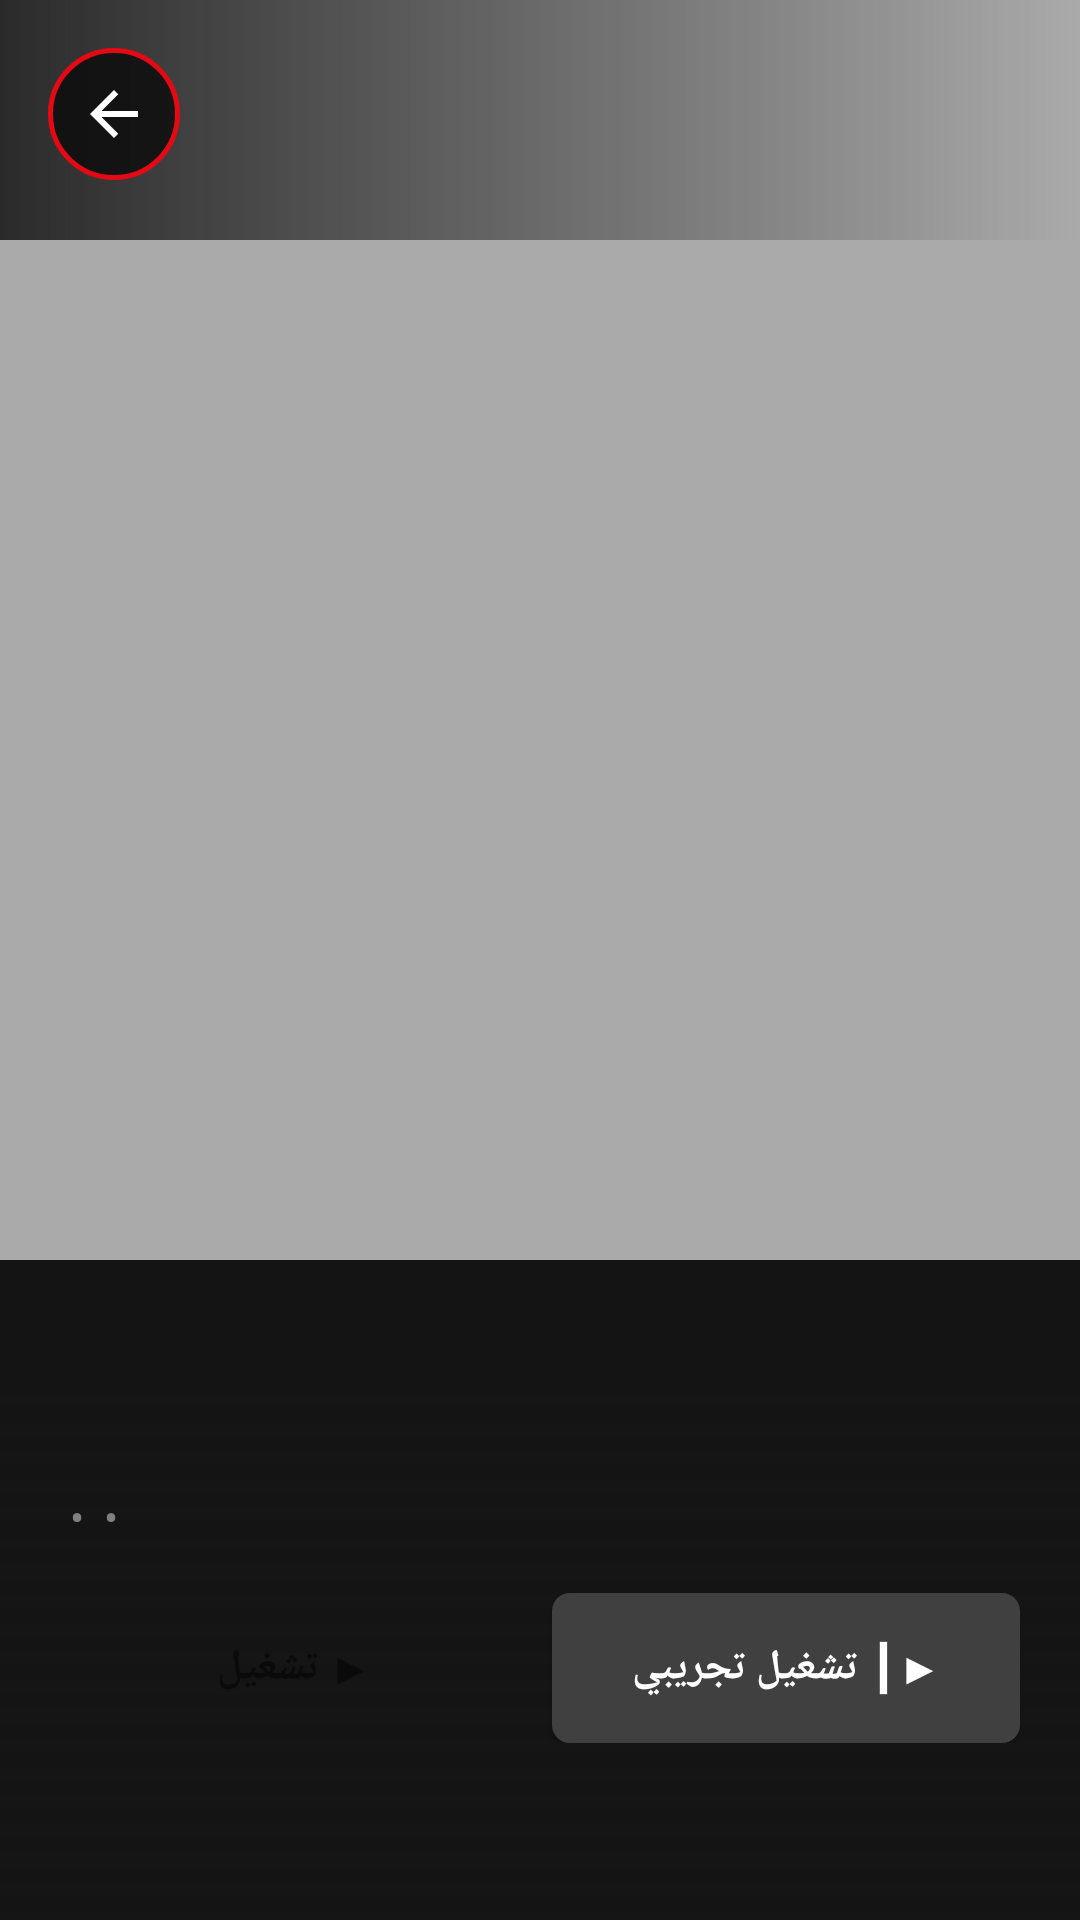

Point at icon controls on the screen. Image size 1080px x 1920px, points as [x,y].
رجوع: [114,114]
